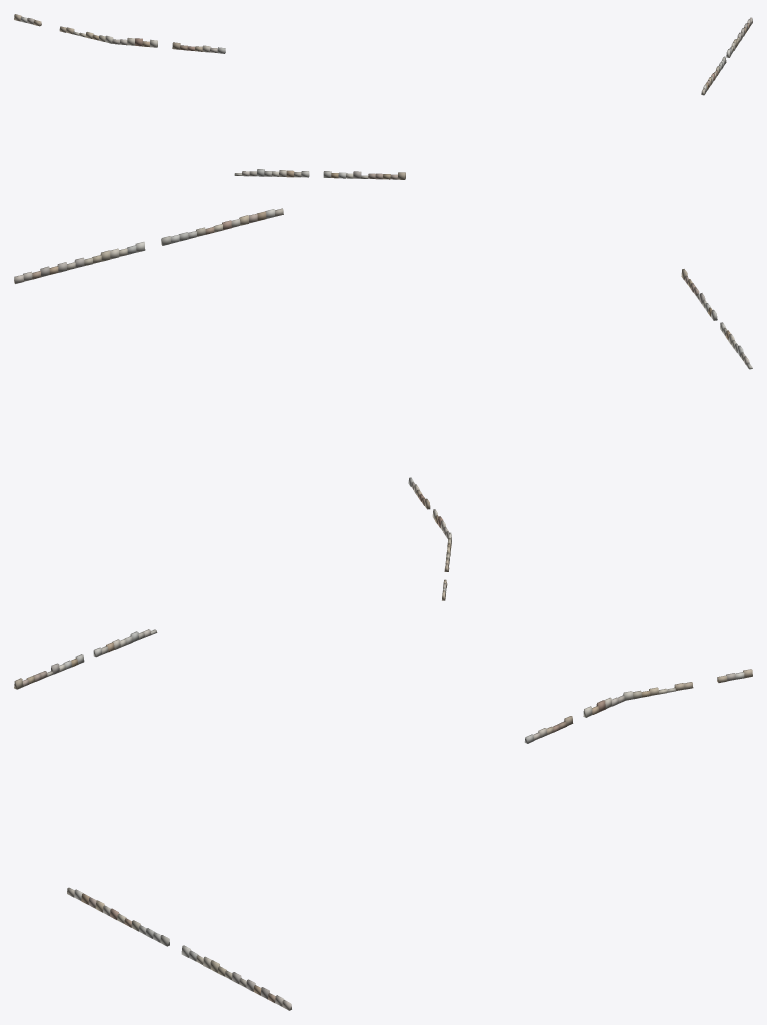
The model's file is farm_-12_-11_far.glb.
The picture shows the model from 3 angles, top to bottom: view 1: azimuth 30°, elevation 25°; view 2: azimuth 150°, elevation 25°; view 3: azimuth 270°, elevation 25°; orthographic projection. The views are drawn at different scales.
Parts seen in each view (by area): view 1: geometry_0; view 2: geometry_0; view 3: geometry_0.
Part boxes in pixels (x1,y1,x2,y2): geometry_0: [14, 14, 752, 179]; geometry_0: [14, 208, 752, 600]; geometry_0: [14, 629, 752, 1010].
Size of the model in its own units: 135 by 9.58 by 122.
